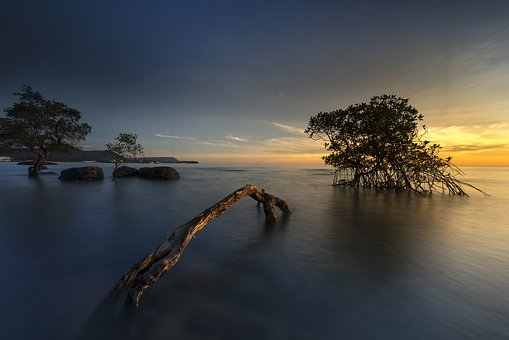sea: (6, 162, 505, 340)
sky: (18, 9, 497, 150)
tree: (323, 88, 458, 191), (7, 93, 80, 174)
